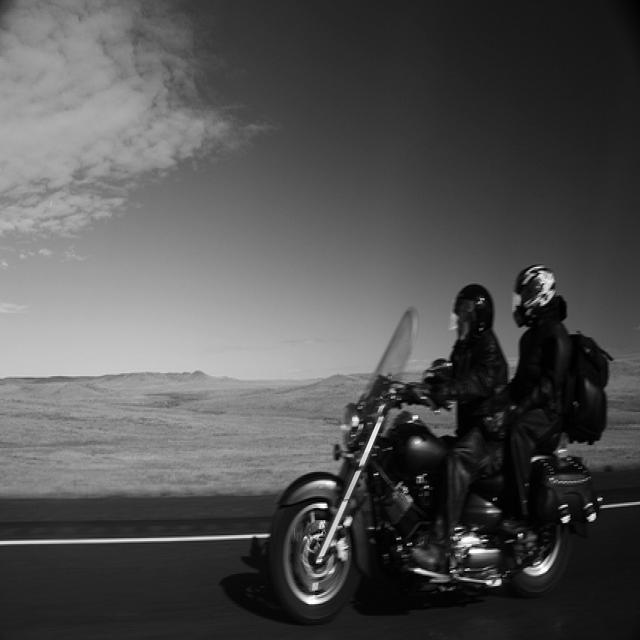motor: (267, 302, 602, 618)
